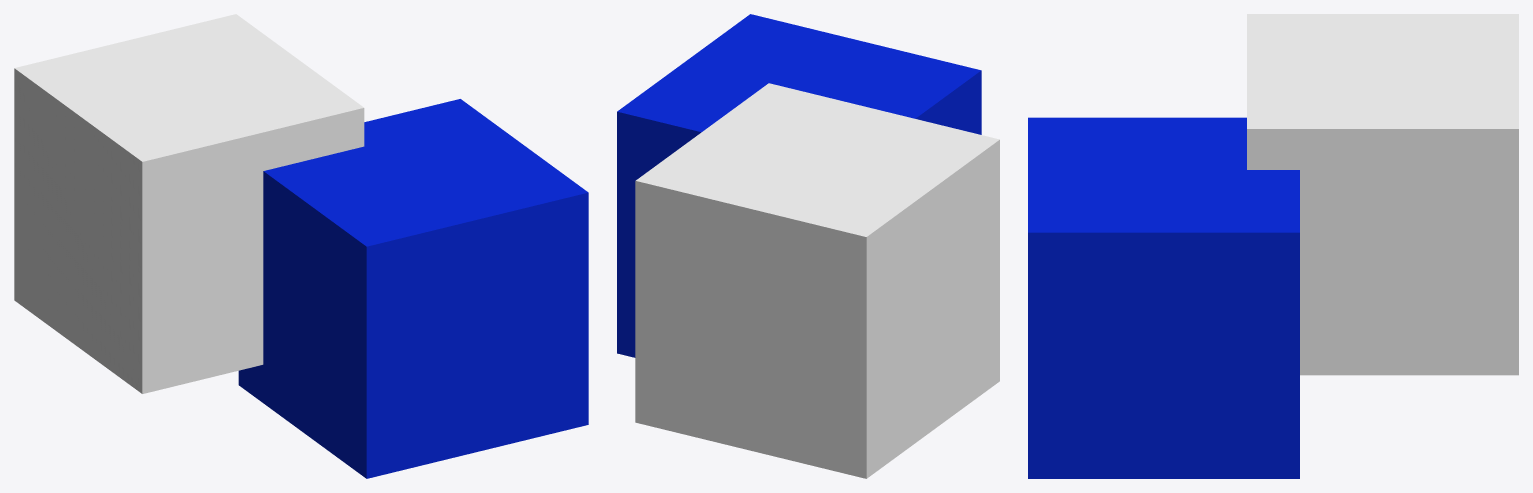
3 views of the same model, side by side, from view 1: azimuth 30°, elevation 25°; view 2: azimuth 150°, elevation 25°; view 3: azimuth 270°, elevation 25° (orthographic). The views are drawn at different scales.
Parts seen in each view (by area): view 1: GeodeCube, GeodeCube.001; view 2: GeodeCube.001, GeodeCube; view 3: GeodeCube, GeodeCube.001.
Part boxes in pixels (bbox=[...]): GeodeCube: bbox=[238, 99, 588, 478]; GeodeCube.001: bbox=[14, 14, 364, 393]; GeodeCube.001: bbox=[635, 83, 999, 478]; GeodeCube: bbox=[617, 14, 981, 357]; GeodeCube: bbox=[1028, 117, 1299, 478]; GeodeCube.001: bbox=[1247, 14, 1518, 375].
Size of the model in its own units: 3.09 by 2.33 by 3.61.
